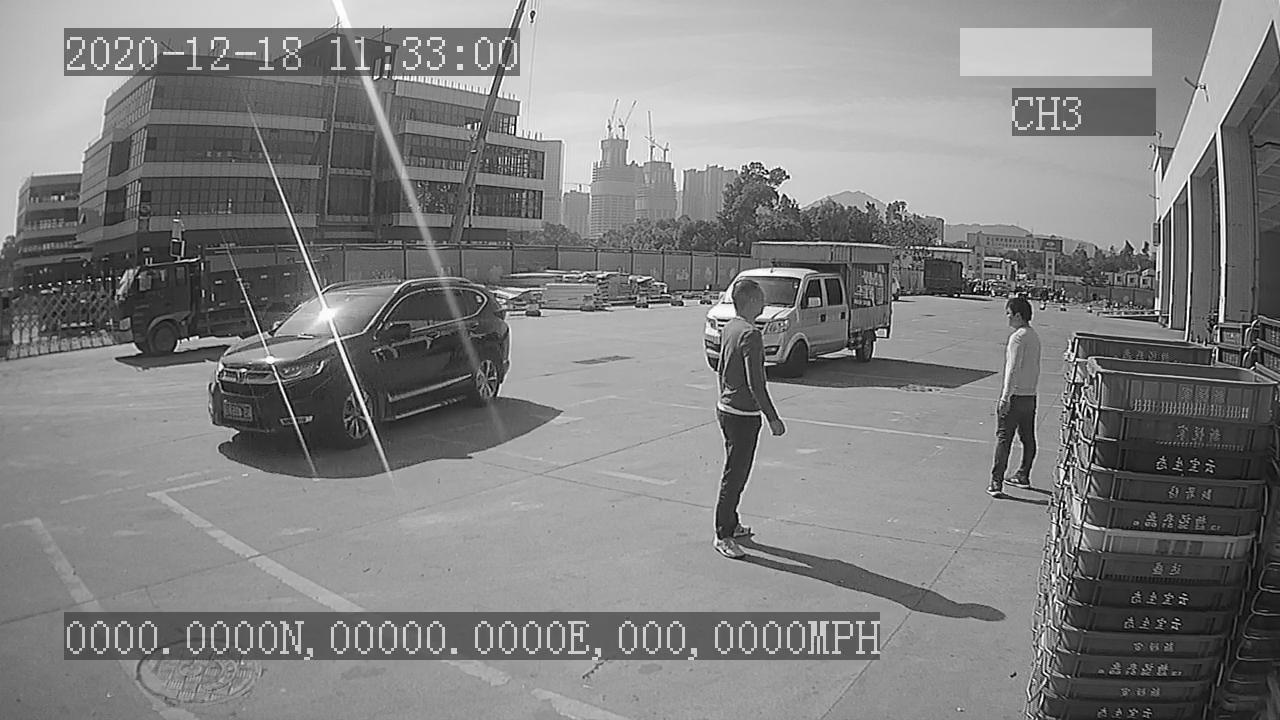person: (983, 290, 1045, 499)
